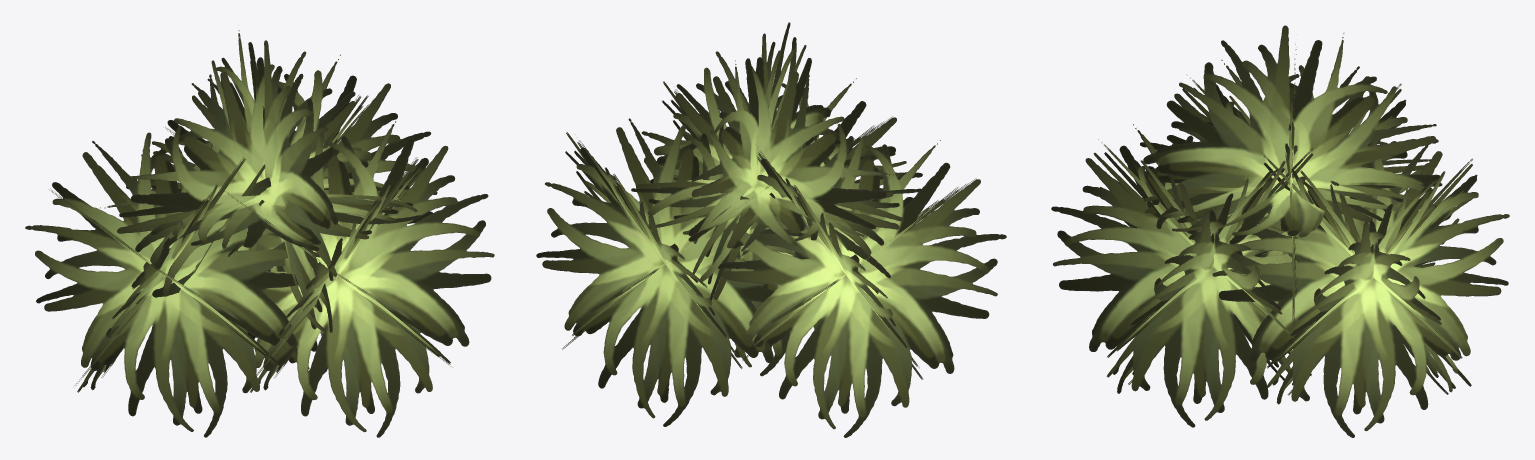
File: painted-grass-004.glb
3 renders of one model, left to right at view 1: azimuth 30°, elevation 25°; view 2: azimuth 150°, elevation 25°; view 3: azimuth 270°, elevation 25°, orthographic. The views are drawn at different scales.
Size of the model in its own units: 12.78 by 11.07 by 12.9.
Materials: 1 (1 with a texture image).
